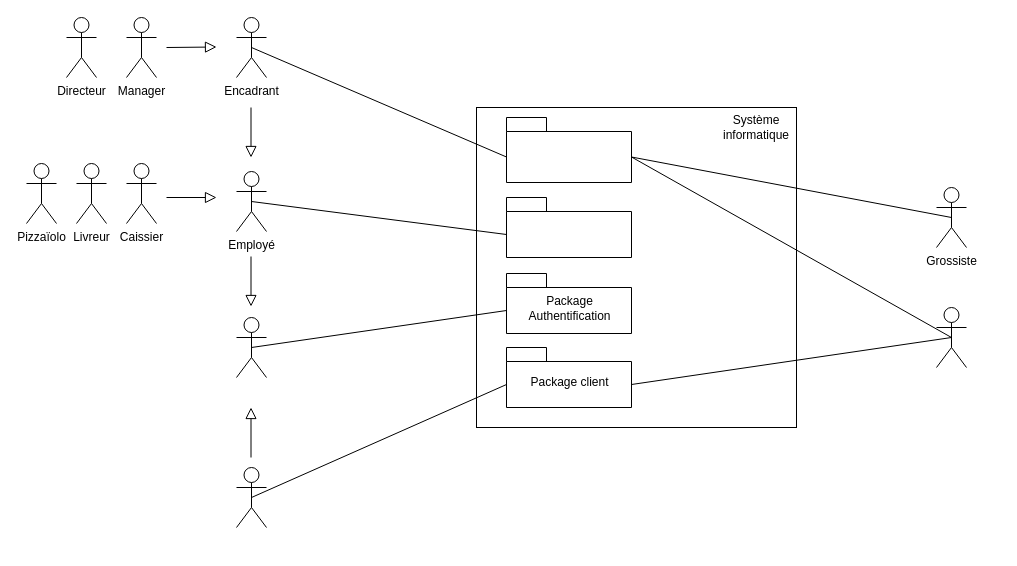
Some shapes in this 1017 by 566 pixel diagram are drawn without their labels. Here are the shapes that lost their labels. From the top down, the box of each, then its label:
(506, 116, 632, 182): Package direction
(506, 196, 632, 258): Package employé
(236, 316, 266, 378): Utilisateur
(936, 306, 966, 368): Système bancaire
(236, 466, 266, 528): Client
